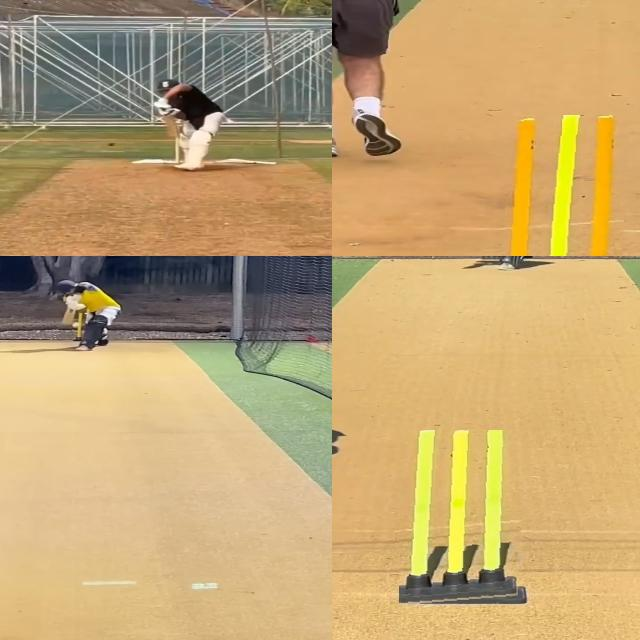Cricket ball: (72, 322, 80, 328), (107, 141, 115, 146)
Stumps: (399, 430, 528, 606), (505, 115, 631, 256)
